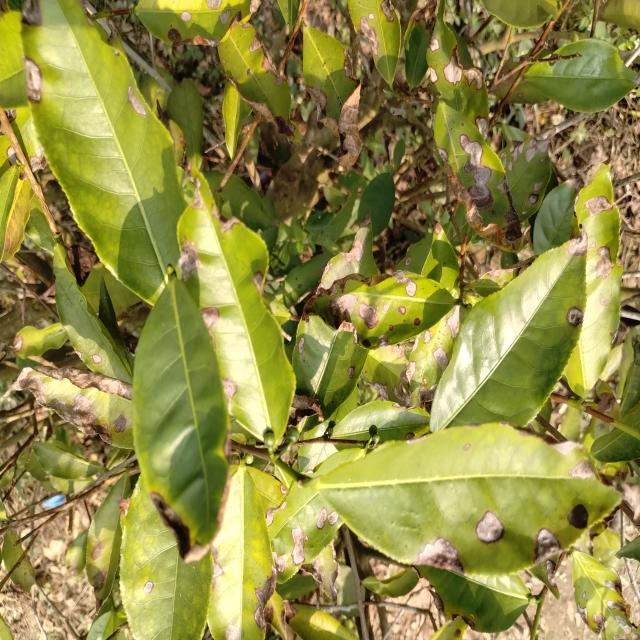Leaf: (23, 0, 185, 304), (313, 423, 618, 575), (178, 168, 295, 440), (431, 231, 586, 431), (132, 277, 229, 560), (119, 480, 213, 640), (565, 165, 623, 397), (434, 102, 522, 249), (208, 463, 276, 640), (303, 271, 455, 348), (54, 244, 131, 383), (9, 366, 133, 448), (219, 18, 293, 136), (524, 38, 640, 112), (303, 26, 361, 168), (293, 310, 368, 418), (418, 566, 533, 632), (426, 0, 488, 121), (267, 482, 341, 582), (572, 551, 639, 640), (401, 306, 460, 404), (86, 473, 130, 602), (317, 214, 379, 295), (135, 0, 251, 43), (348, 0, 401, 85), (501, 135, 551, 221), (166, 79, 204, 168), (221, 175, 277, 231), (533, 183, 576, 254), (404, 0, 437, 89), (275, 254, 331, 306), (421, 223, 459, 299), (285, 603, 358, 640), (34, 440, 103, 479), (0, 11, 27, 110), (358, 172, 395, 236), (222, 82, 252, 159), (480, 0, 557, 28), (13, 323, 67, 358), (0, 165, 19, 261), (591, 428, 640, 462), (362, 568, 419, 597), (265, 591, 295, 640), (276, 573, 315, 600), (10, 556, 36, 591), (430, 617, 467, 640), (2, 532, 23, 571), (623, 401, 640, 437), (204, 171, 223, 192)
